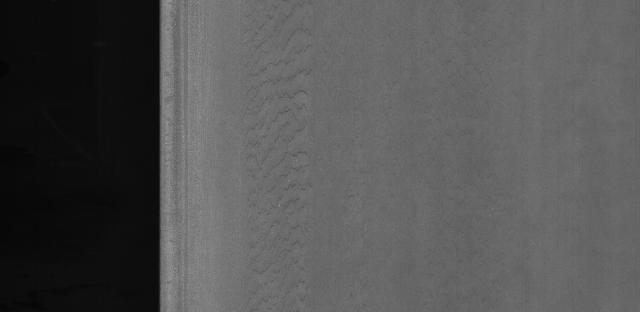silk_spot: (233, 5, 316, 310)
